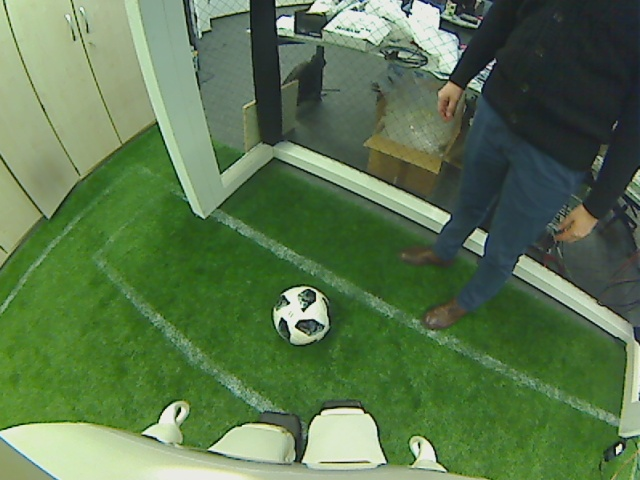ball: (270, 284, 331, 347)
